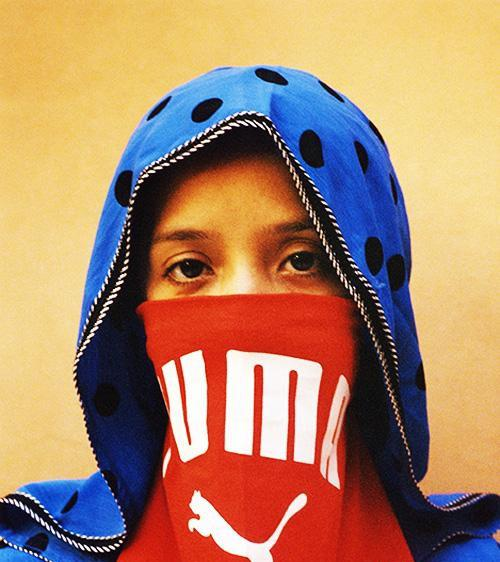OK: (131, 207, 359, 435)
